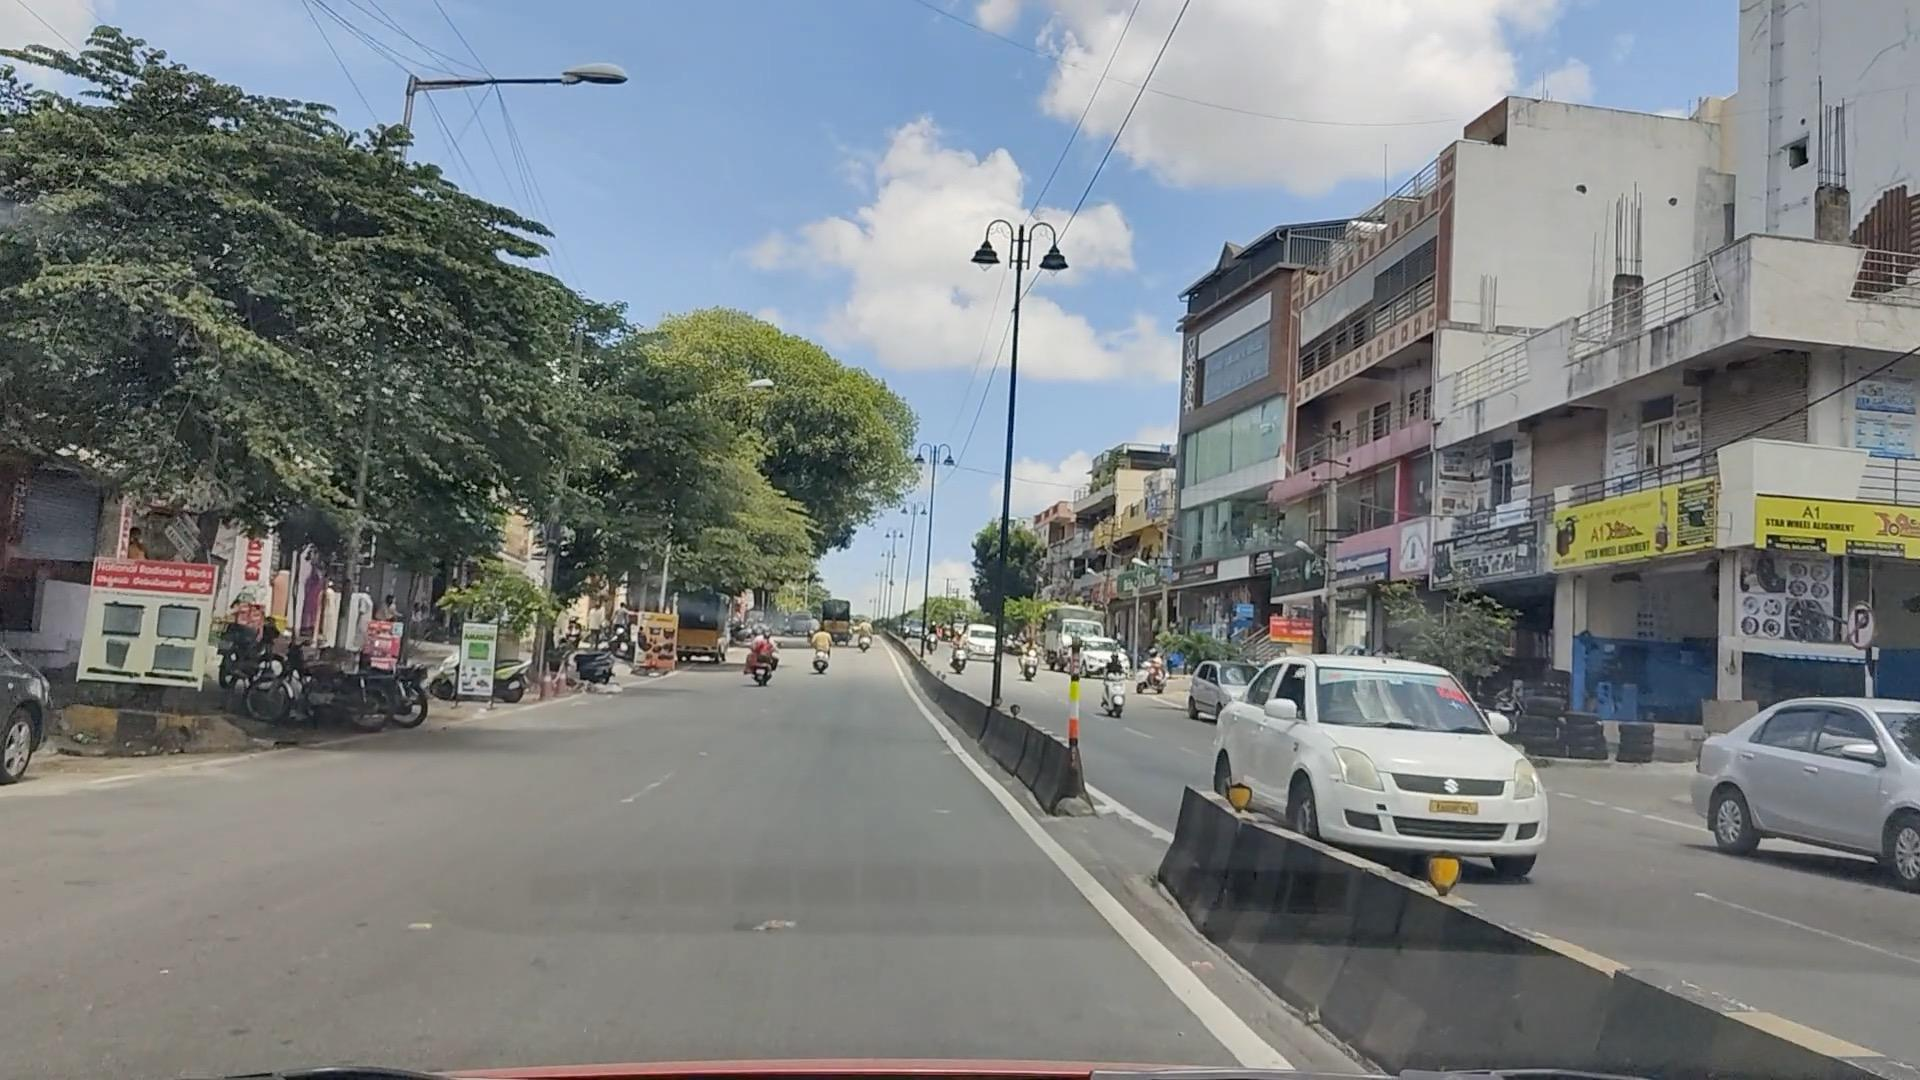LMV: (1204, 657, 1520, 865)
